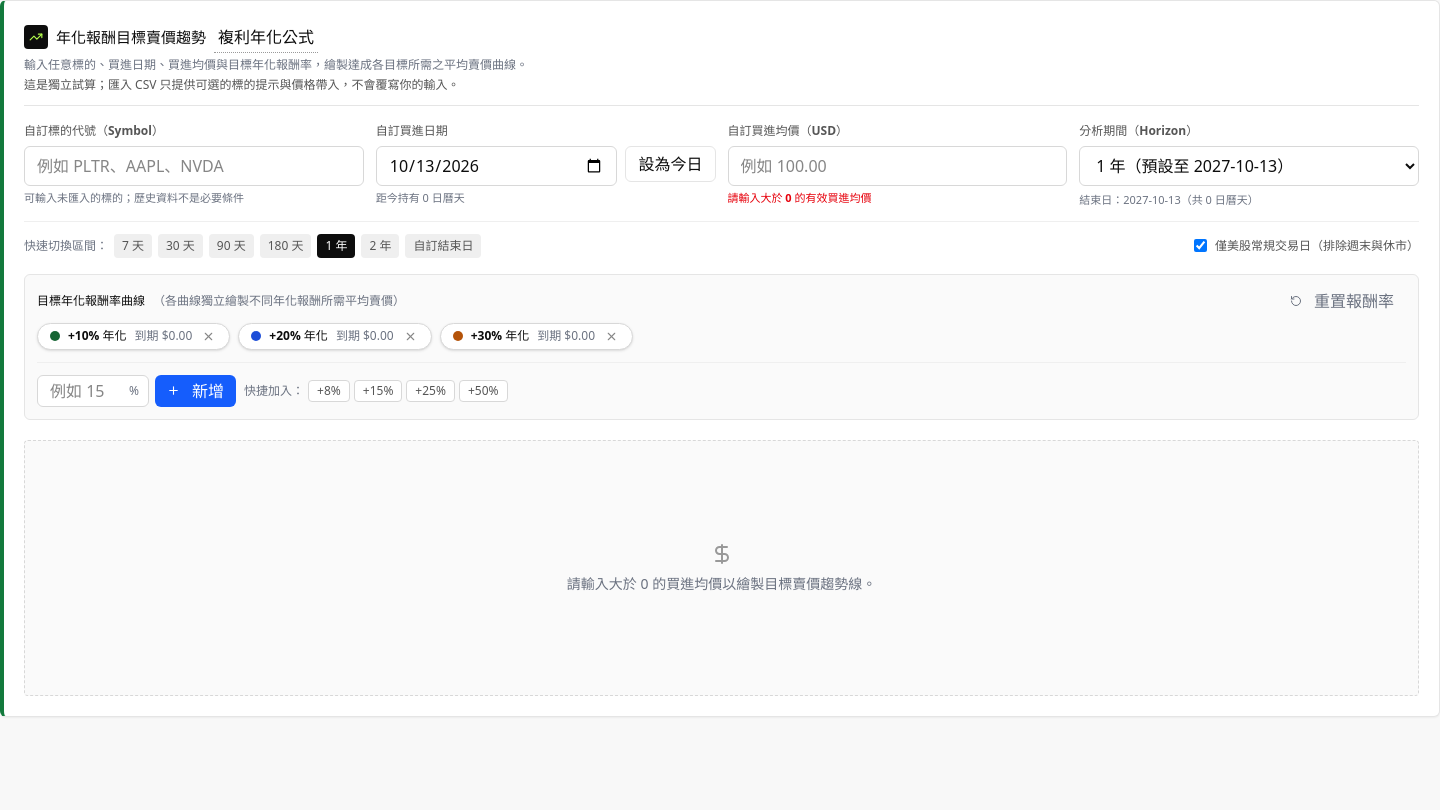
AnnualizedReturnPanel › prevents removing the last return rate
Remove 10% and 20%
Click the button named "移除 10% 年化目標".
click(209, 336)  # box [200,328,217,344]
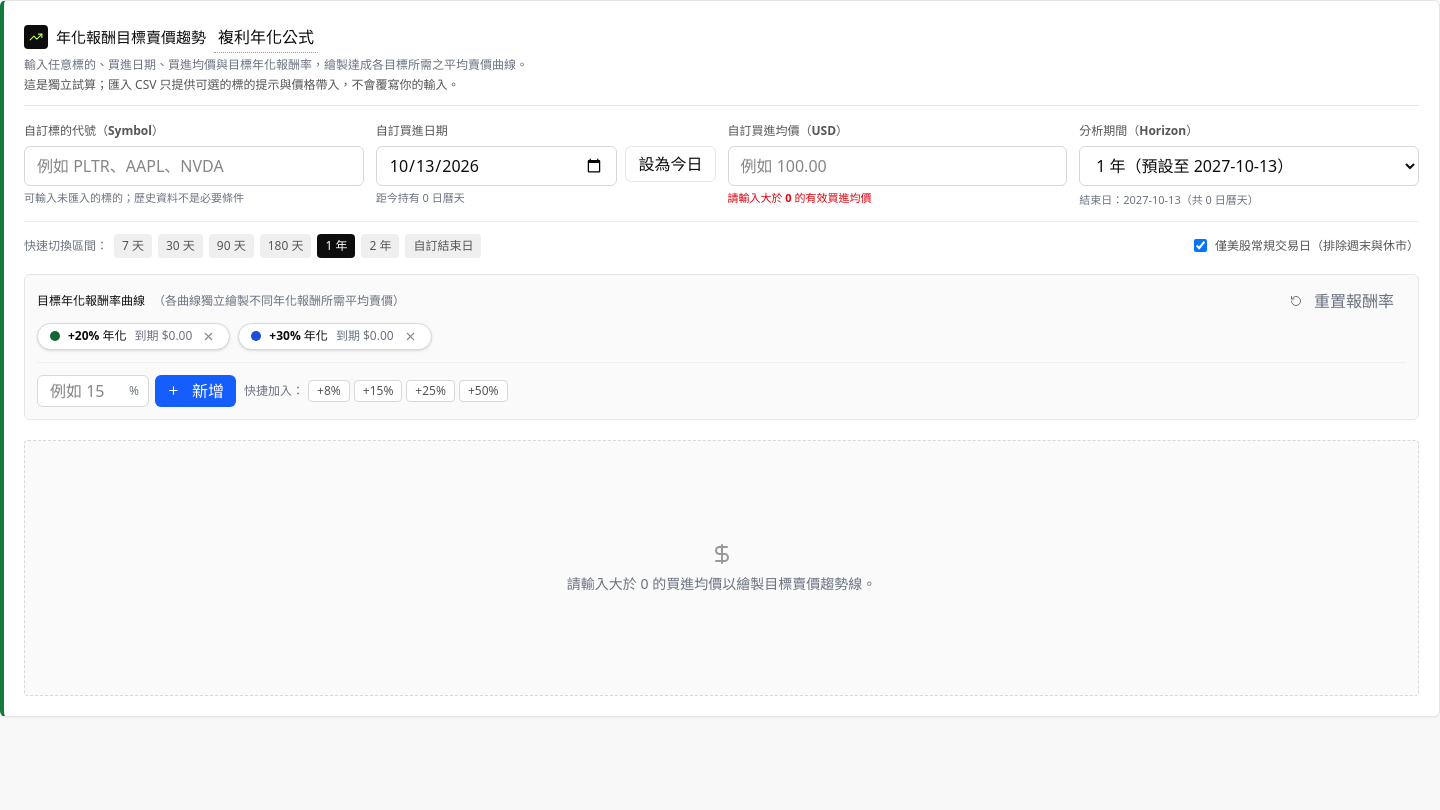
Click the button named "移除 20% 年化目標".
click(209, 336)  # box [200,328,217,344]
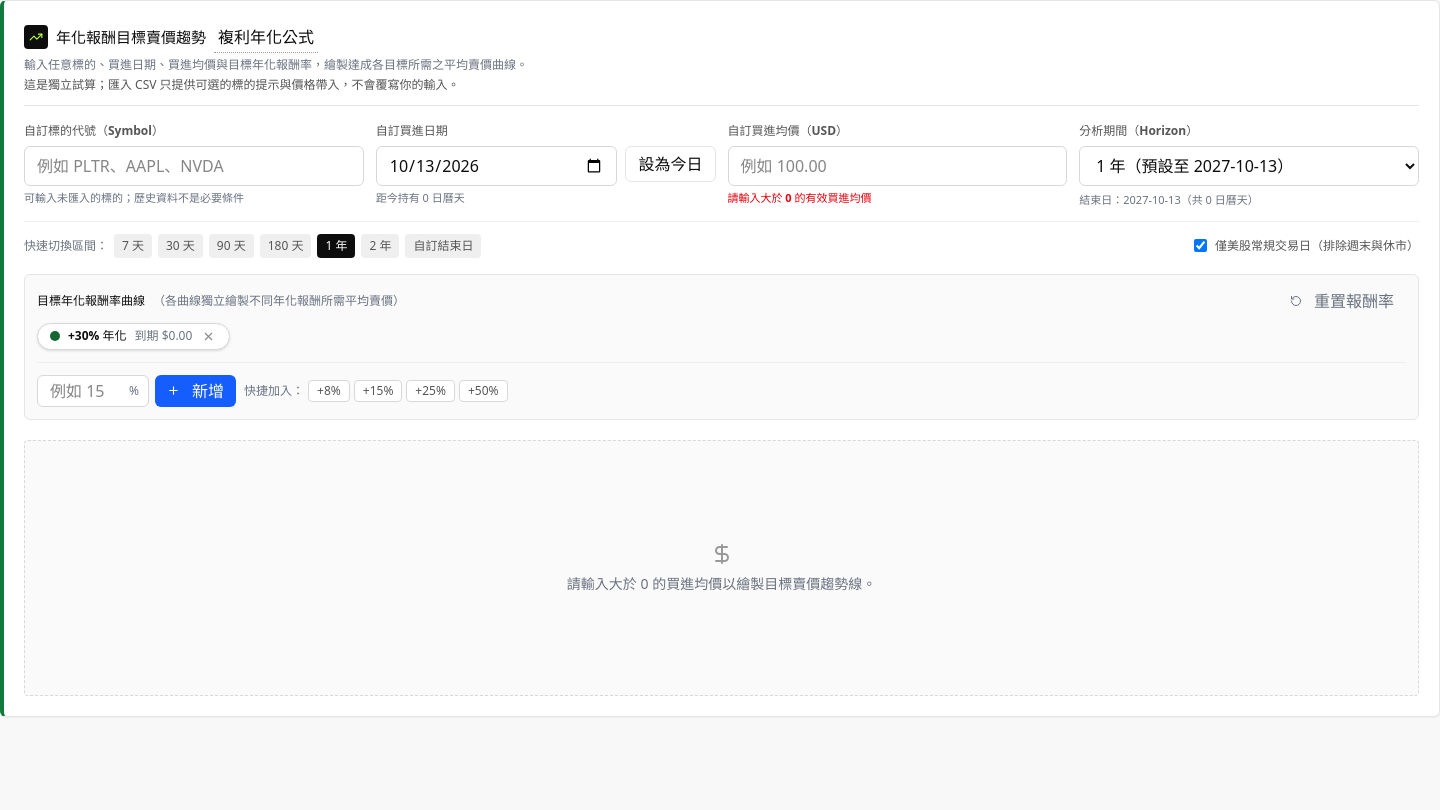
Try removing 30% (the last one)
Click the button named "移除 30% 年化目標".
click(209, 336)  # box [200,328,217,344]
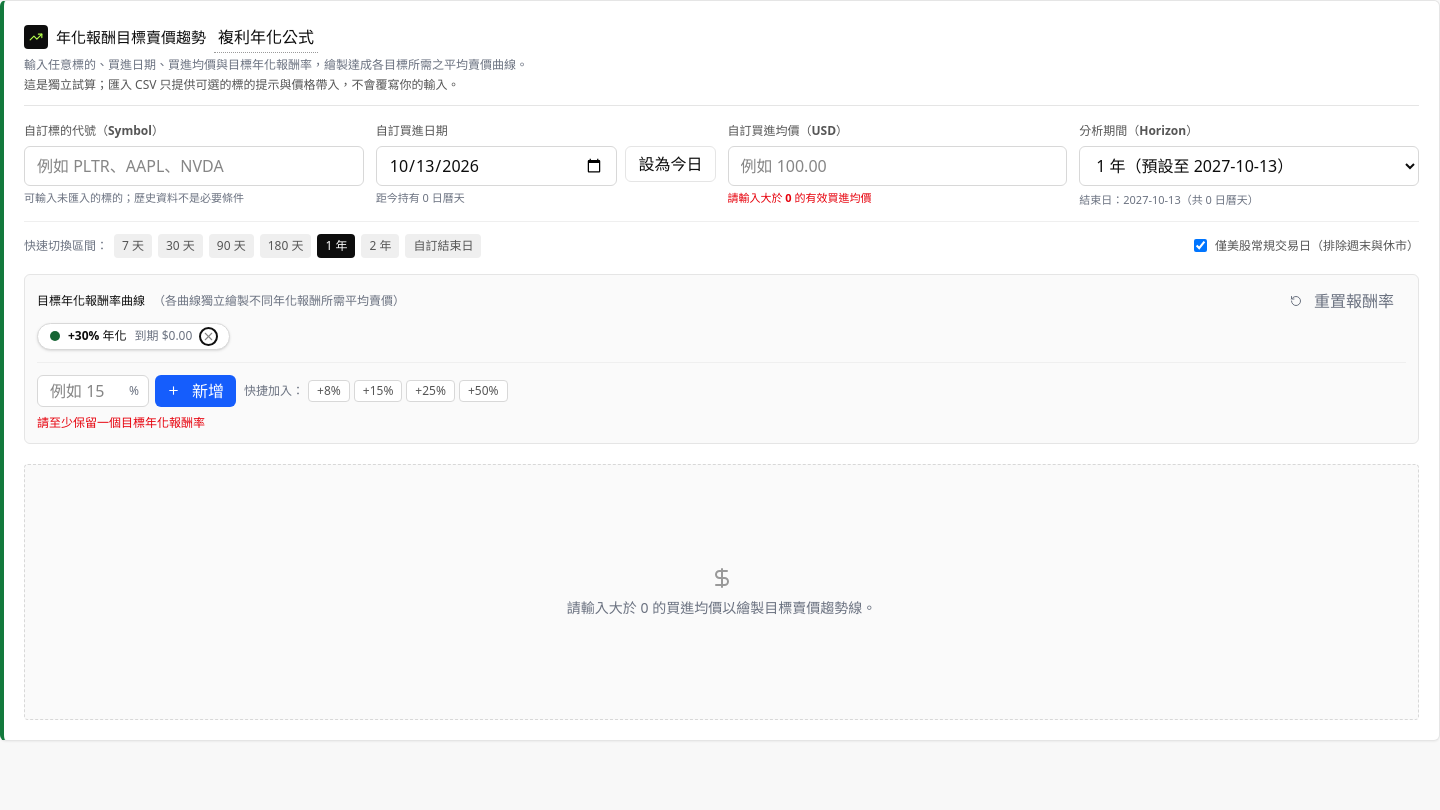
Expected: the text "請至少保留一個目標年化報酬率" is shown, [37,414,205,430]
